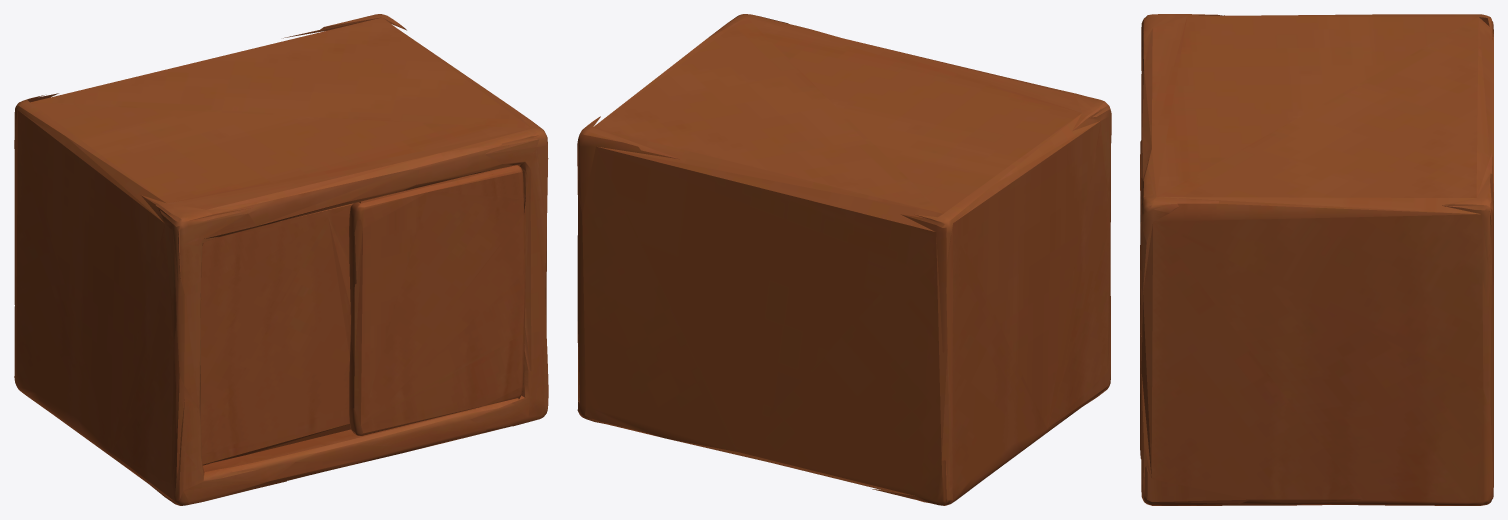
Rendered from cabinet.glb.
The picture shows the model from 3 angles, left to right: view 1: azimuth 30°, elevation 25°; view 2: azimuth 150°, elevation 25°; view 3: azimuth 270°, elevation 25°; orthographic projection. The views are drawn at different scales.
Size of the model in its own units: 1.9 by 1.41 by 1.48.
Materials: 1 (1 with a texture image).
